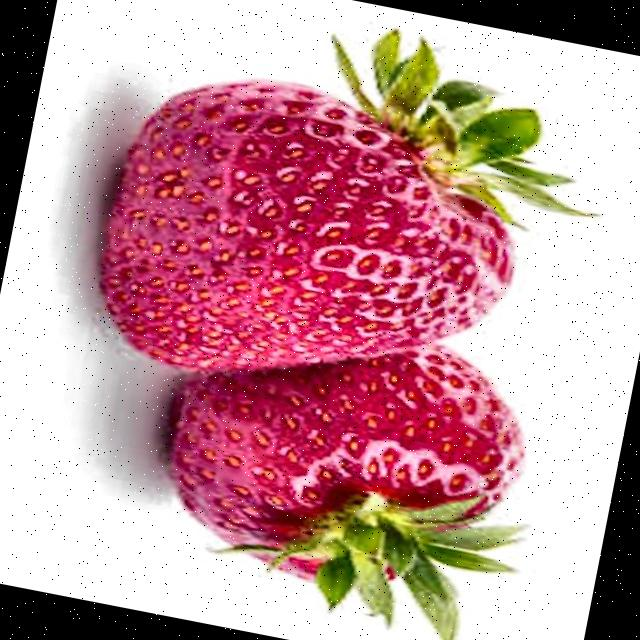strawberry: (101, 32, 589, 372), (169, 347, 523, 640)
